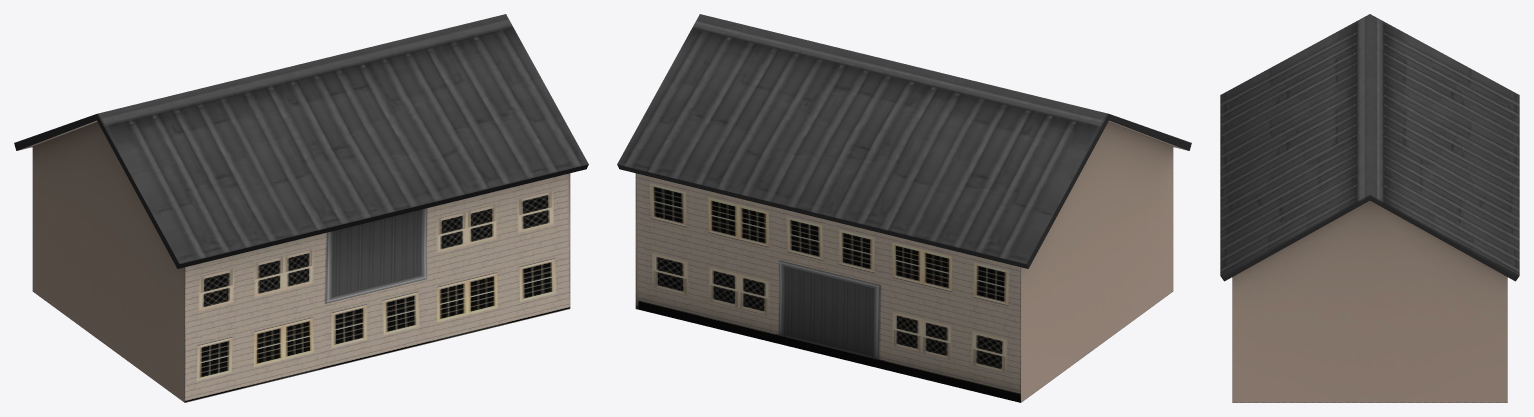
File: Building2.fbx
3 renders of one model, left to right at view 1: azimuth 30°, elevation 25°; view 2: azimuth 150°, elevation 25°; view 3: azimuth 270°, elevation 25°, orthographic. The views are drawn at different scales.
Parts seen in each view (by area): view 1: B_2; view 2: B_2; view 3: B_2.
Part boxes in pixels (x1,y1,x2,y2): B_2: (14,14,588,402); B_2: (617,14,1191,402); B_2: (1220,14,1519,402).
Bounding box in the file's own units: 7810 × 4311 × 5476.
